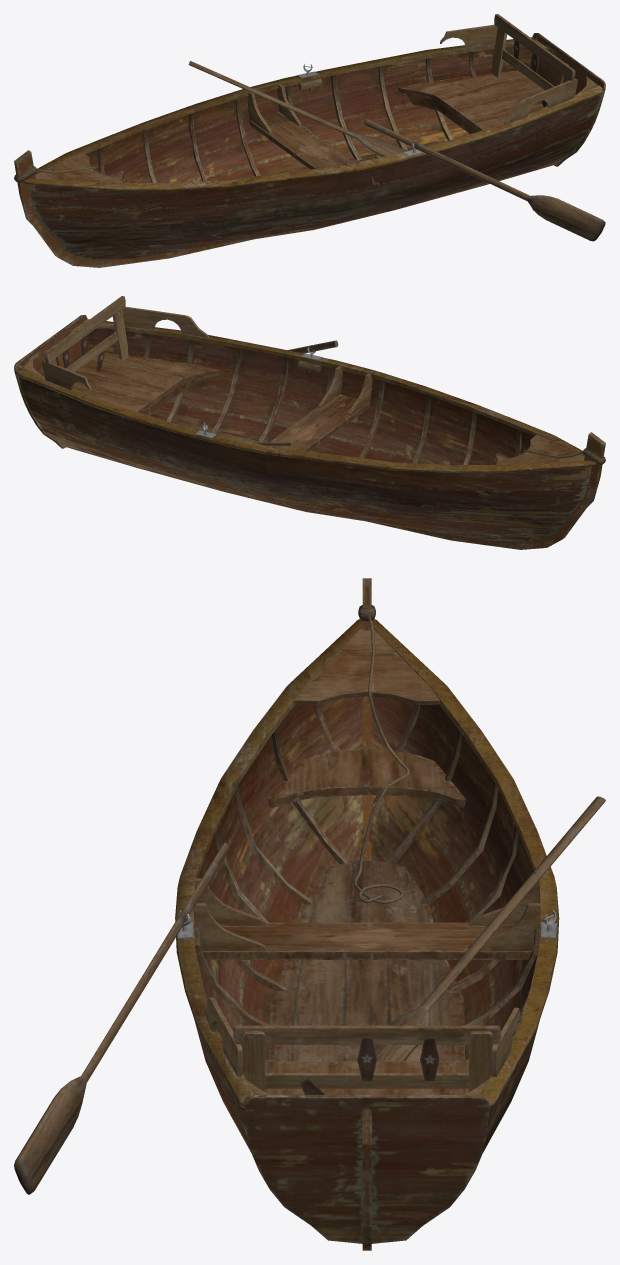
The picture shows the model from 3 angles, top to bottom: view 1: azimuth 30°, elevation 25°; view 2: azimuth 150°, elevation 25°; view 3: azimuth 270°, elevation 25°; orthographic projection. The views are drawn at different scales.
Visible parts, largest first — view 1: 01_low, 02_low, 05_low, 15_low, 14_low, 10_low, 04_low, 07_low, 03_low, 06_low, 08_low, 23_low (+3 smaller); view 2: 01_low, 02_low, 05_low, 14_low, 04_low, 10_low, 07_low, 03_low, 06_low, 08_low, 23_low, 12_low (+4 smaller); view 3: 01_low, 03_low, 13_low, 02_low, 15_low, 10_low, 14_low, 11_low, 06_low, 23_low, 08_low, 05_low (+5 smaller).
Boxes of the visible parts, x1,y1,x2,y2 form: 01_low: (28, 46, 601, 259); 02_low: (23, 37, 602, 190); 05_low: (397, 70, 547, 131); 15_low: (188, 61, 605, 241); 14_low: (98, 52, 475, 182); 10_low: (249, 112, 354, 169); 04_low: (14, 63, 568, 267); 07_low: (440, 24, 577, 124); 03_low: (530, 33, 605, 166); 06_low: (35, 152, 123, 182); 08_low: (494, 14, 575, 80); 23_low: (247, 84, 380, 164); 01_low: (18, 328, 591, 541); 02_low: (17, 319, 596, 472); 05_low: (72, 352, 222, 413); 14_low: (144, 334, 521, 464); 04_low: (51, 345, 605, 549); 10_low: (270, 394, 370, 451); 07_low: (42, 306, 209, 391); 03_low: (14, 315, 89, 448); 06_low: (496, 434, 584, 464); 08_low: (44, 296, 125, 362); 23_low: (239, 366, 372, 446); 12_low: (141, 376, 213, 415); 01_low: (194, 696, 539, 1152); 03_low: (244, 1095, 489, 1243); 13_low: (269, 859, 464, 1061); 02_low: (175, 619, 559, 1107); 15_low: (14, 796, 605, 1194); 10_low: (202, 922, 532, 959); 14_low: (197, 705, 536, 1045); 11_low: (267, 747, 466, 807); 06_low: (294, 627, 440, 705); 23_low: (194, 878, 540, 950); 08_low: (233, 1025, 500, 1044); 05_low: (265, 1059, 468, 1094).
Bounding box in the file's own units: 5.84 × 1.43 × 3.14.
1 material, 1 textured.
